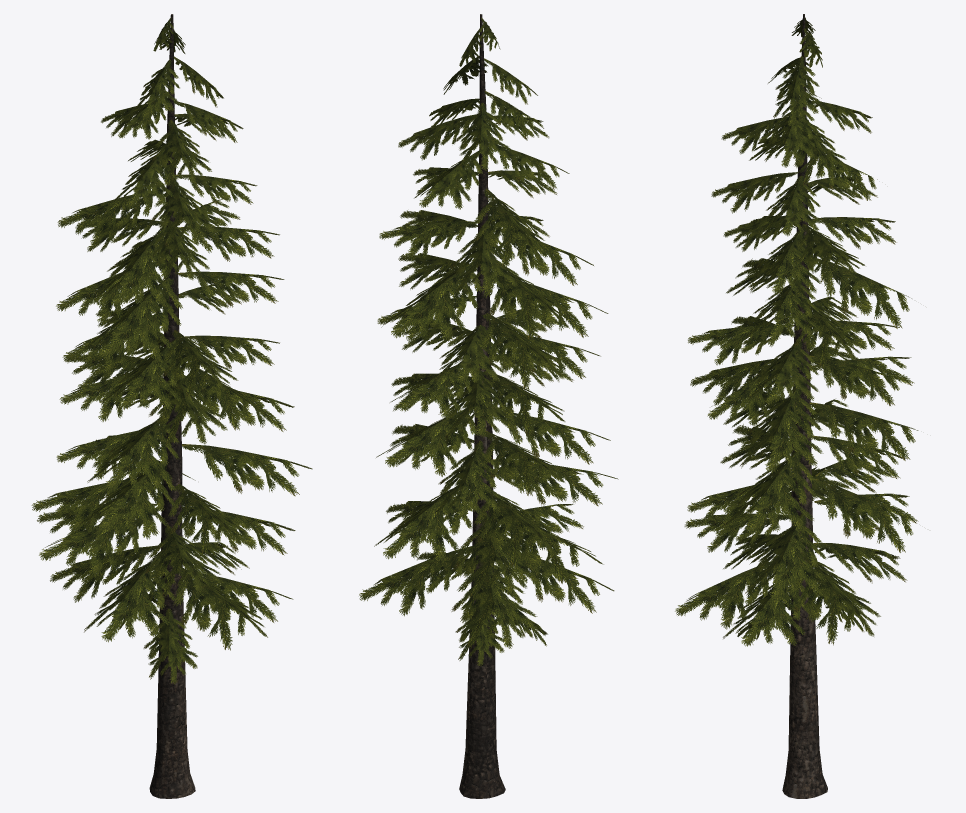
File: pine_tree_n_2_2.glb
The picture shows the model from 3 angles, left to right: view 1: azimuth 30°, elevation 25°; view 2: azimuth 150°, elevation 25°; view 3: azimuth 270°, elevation 25°; orthographic projection.
Parts seen in each view (by area): view 1: pine_tree_n_2_2_branches, pine_tree_n_2_2; view 2: pine_tree_n_2_2_branches, pine_tree_n_2_2; view 3: pine_tree_n_2_2_branches, pine_tree_n_2_2.
Part boxes in pixels (x1,y1,x2,y2): pine_tree_n_2_2_branches: (31, 18, 312, 684); pine_tree_n_2_2: (149, 14, 195, 798); pine_tree_n_2_2_branches: (359, 17, 618, 666); pine_tree_n_2_2: (459, 14, 505, 798); pine_tree_n_2_2_branches: (675, 17, 918, 646); pine_tree_n_2_2: (782, 14, 827, 798).
Size of the model in its own units: 2.95 by 8.19 by 2.79.
2 materials, 2 textured.
